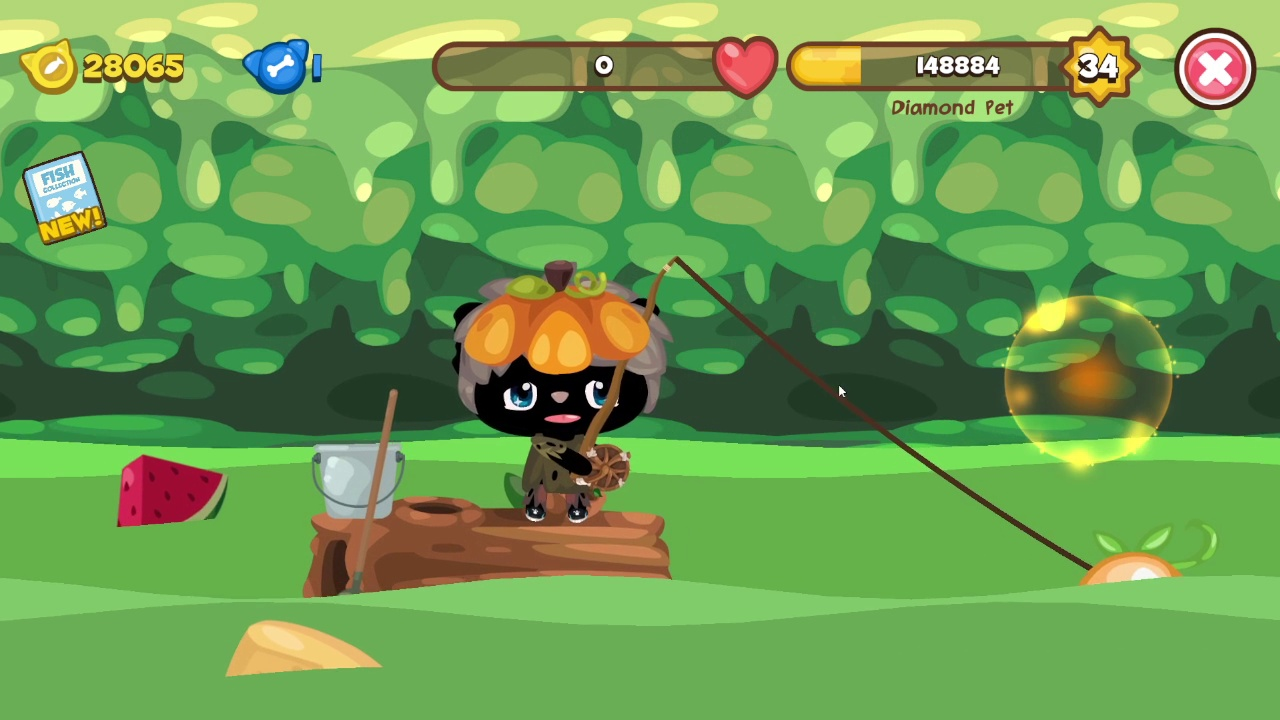point: (1003, 293, 1176, 465)
